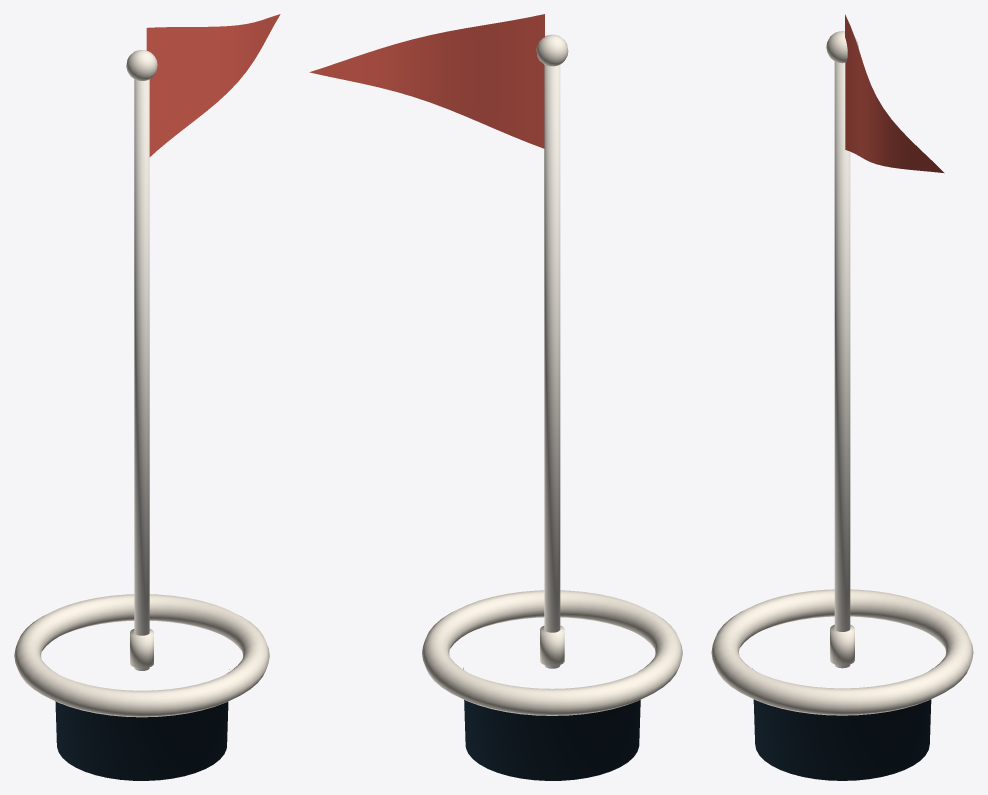
The model's file is flag.glb.
3 renders of one model, left to right at view 1: azimuth 30°, elevation 25°; view 2: azimuth 150°, elevation 25°; view 3: azimuth 270°, elevation 25°, orthographic. The views are drawn at different scales.
Visible parts, largest first — view 1: cup-rim, cup-liner, flag, pole, ferrule, pole-top; view 2: flag, cup-rim, cup-liner, pole, ferrule, pole-top; view 3: cup-rim, cup-liner, pole, flag, ferrule, pole-top.
Boxes of the visible parts, x1,y1,x2,y2 form: cup-rim: (14,594,269,717); cup-liner: (55,669,229,780); flag: (146,14,280,156); pole: (134,79,149,670); ferrule: (130,629,153,668); pole-top: (126,50,157,80); flag: (309,14,544,148); cup-rim: (422,590,682,715); cup-liner: (463,668,640,780); pole: (544,65,560,668); ferrule: (540,625,564,665); pole-top: (536,34,568,66); cup-rim: (711,589,973,715); cup-liner: (752,668,932,780); pole: (834,61,850,668); flag: (845,14,944,173); ferrule: (830,624,854,665); pole-top: (826,31,858,63).
Size of the model in its own units: 1.42 by 3.24 by 1.05.
